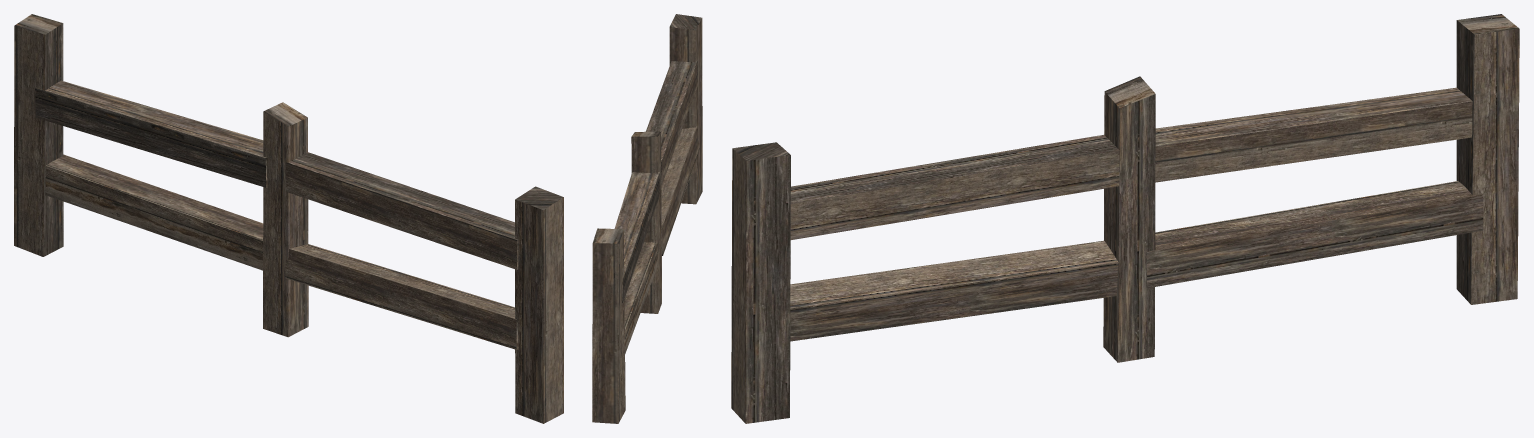
The model's file is OBJ-rail_fence.glb.
3 views of the same model, side by side, from view 1: azimuth 30°, elevation 25°; view 2: azimuth 150°, elevation 25°; view 3: azimuth 270°, elevation 25° (orthographic). The views are drawn at different scales.
Parts seen in each view (by area): view 1: Object_2; view 2: Object_2; view 3: Object_2.
Part boxes in pixels (x1,y1,x2,y2): Object_2: [14, 14, 563, 423]; Object_2: [592, 14, 702, 423]; Object_2: [731, 14, 1519, 423].
Size of the model in its own units: 1.29 by 1.14 by 3.
Materials: 1 (1 with a texture image).
